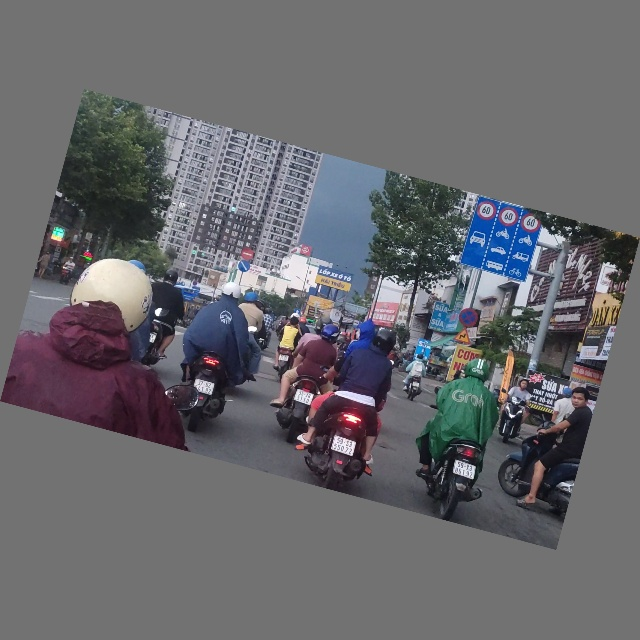I.434a: (352, 320, 360, 329)
P.102: (240, 248, 255, 263)
P.127*60: (496, 204, 522, 230), (473, 198, 499, 223), (518, 212, 543, 235)
P.130: (457, 307, 481, 331)
R.302a: (236, 260, 252, 274)
R.415a: (460, 220, 538, 284)
W.202b: (453, 327, 473, 345)
